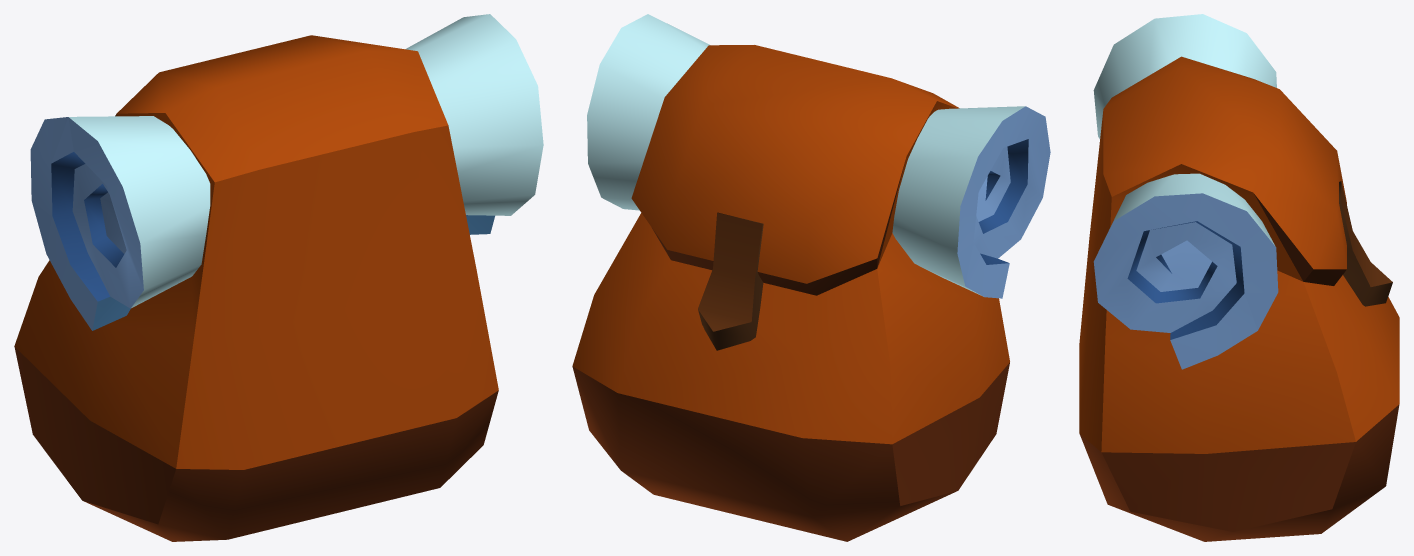
Rendered from BackPack.fbx.
3 views of the same model, side by side, from view 1: azimuth 30°, elevation 25°; view 2: azimuth 150°, elevation 25°; view 3: azimuth 270°, elevation 25° (orthographic). The views are drawn at different scales.
Visible parts, largest first — view 1: mesh_0_; view 2: mesh_0_; view 3: mesh_0_.
Boxes of the visible parts, left/top/right/bottom form: mesh_0_: left=14, top=14, right=543, bottom=541; mesh_0_: left=572, top=14, right=1050, bottom=541; mesh_0_: left=1079, top=14, right=1399, bottom=541.
Size of the model in its own units: 628 by 649 by 473.
Materials: 1 (1 with a texture image).
